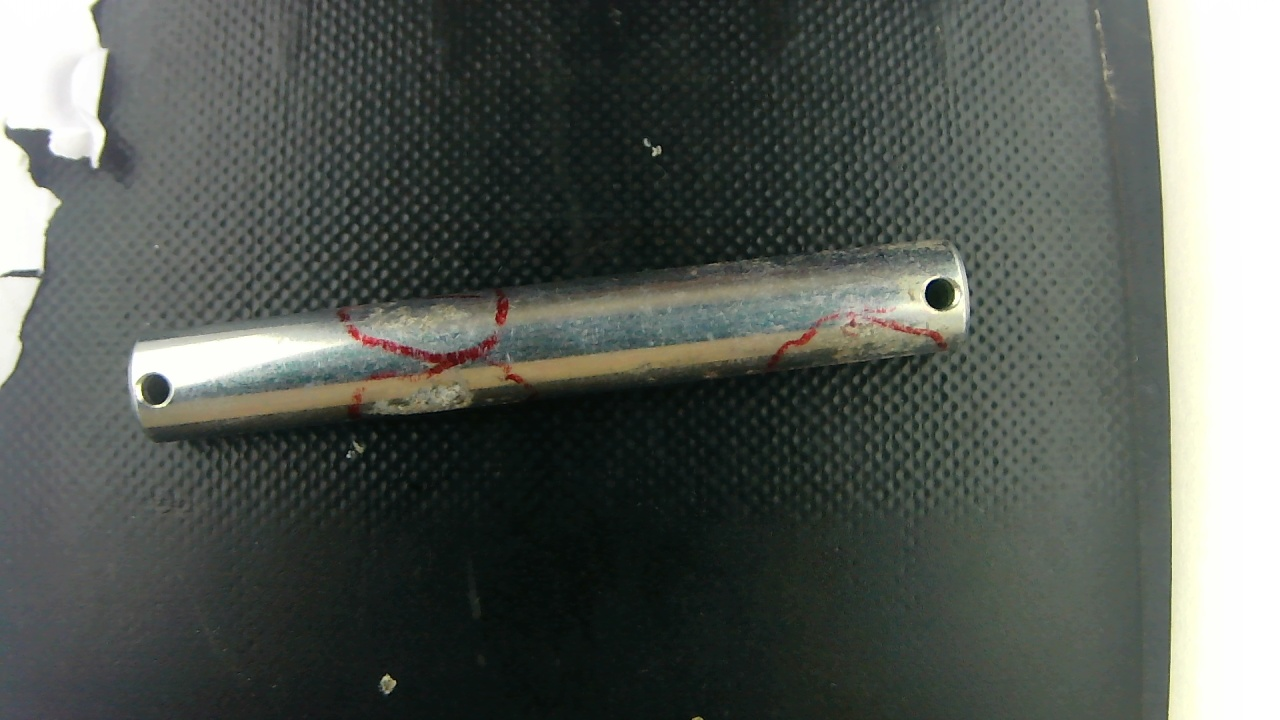whiterust_pin: (407, 545, 553, 600), (354, 290, 482, 349)
